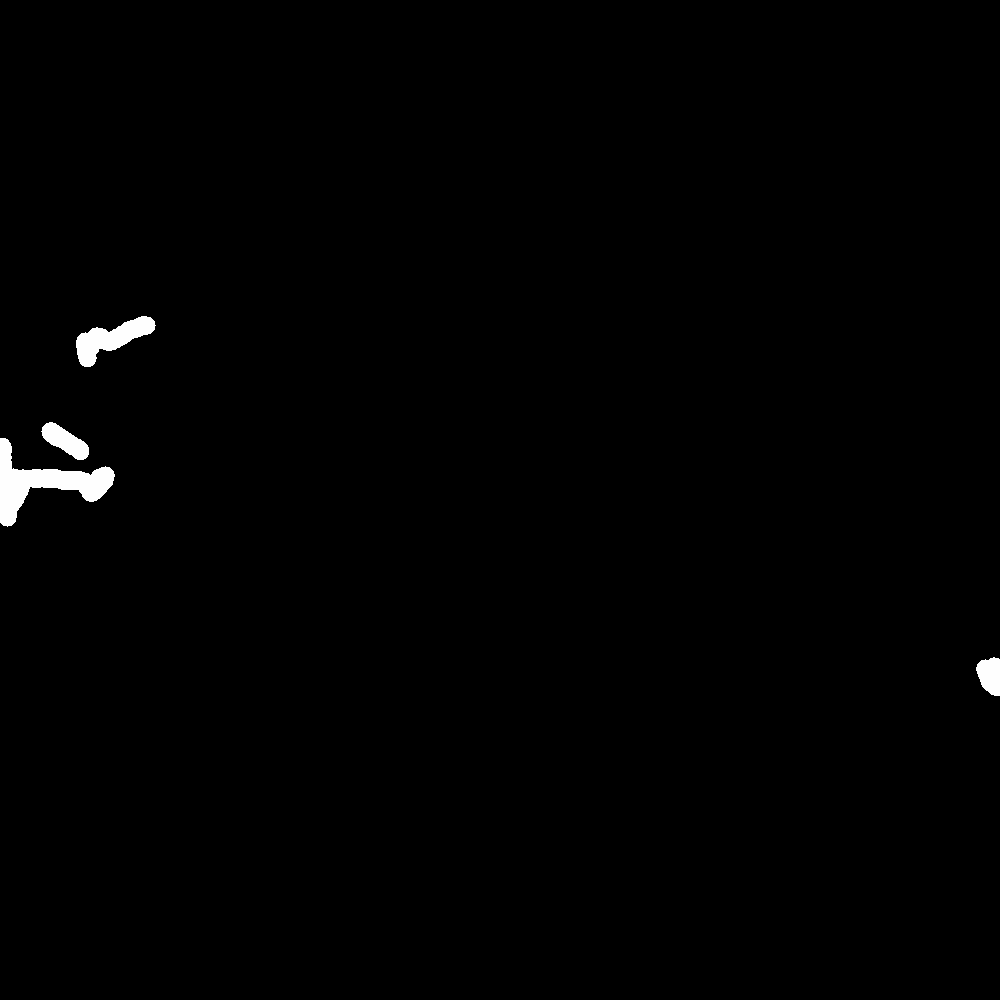illegal: (1, 467, 40, 527), (555, 478, 584, 501)
